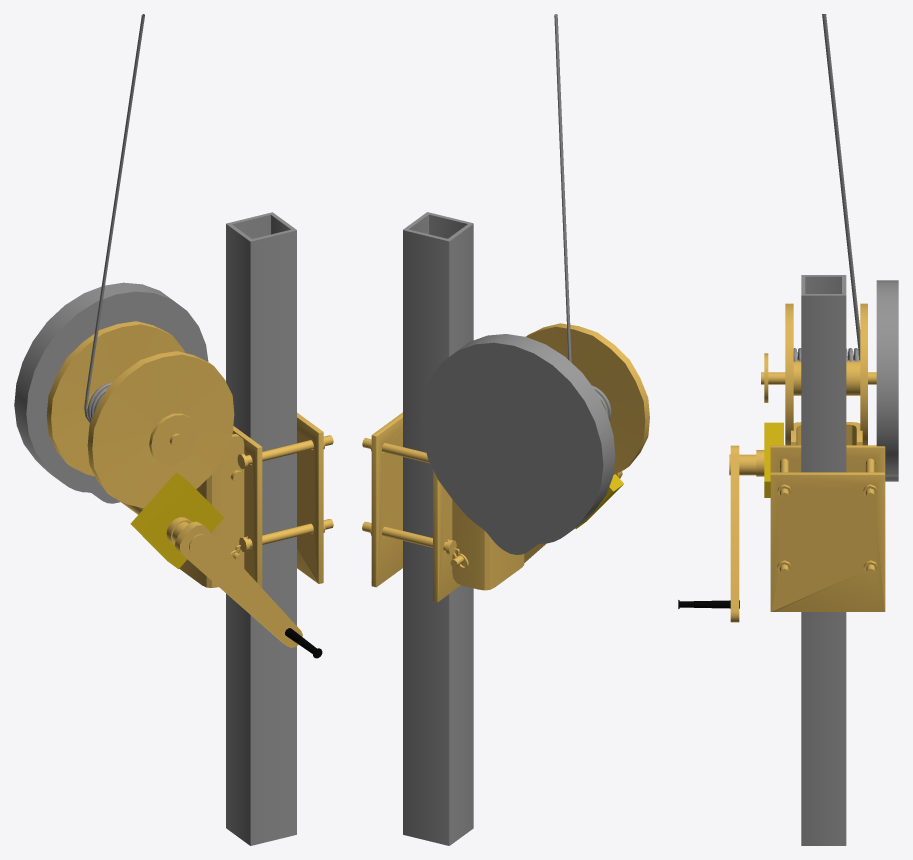
3 views of the same model, side by side, from view 1: azimuth 30°, elevation 25°; view 2: azimuth 150°, elevation 25°; view 3: azimuth 270°, elevation 25° (orthographic). The views are drawn at different scales.
Visible parts, largest first — view 1: SM_PN817; view 2: SM_PN817; view 3: SM_PN817.
Part boxes in pixels (x1,y1,x2,y2): SM_PN817: (14, 14, 333, 845); SM_PN817: (362, 14, 649, 845); SM_PN817: (678, 14, 898, 845).
Size of the model in its own units: 243 by 774 by 201.
